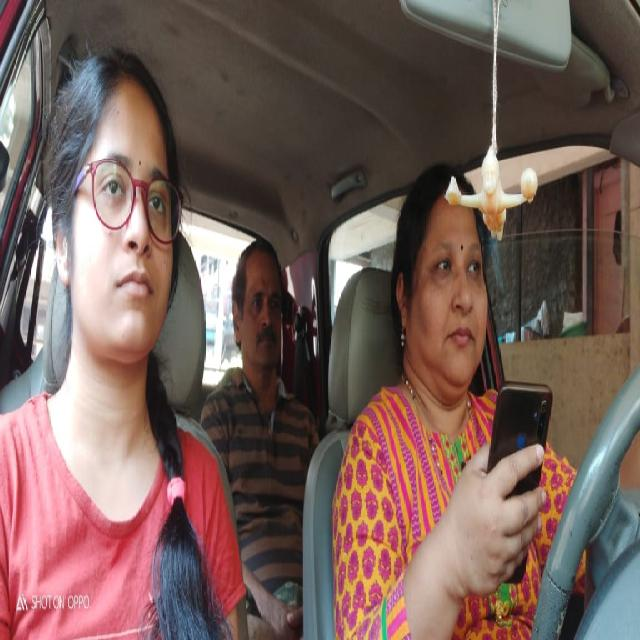mobile: (500, 392, 546, 556)
person: (48, 64, 180, 369), (397, 178, 491, 383), (232, 250, 288, 358)
